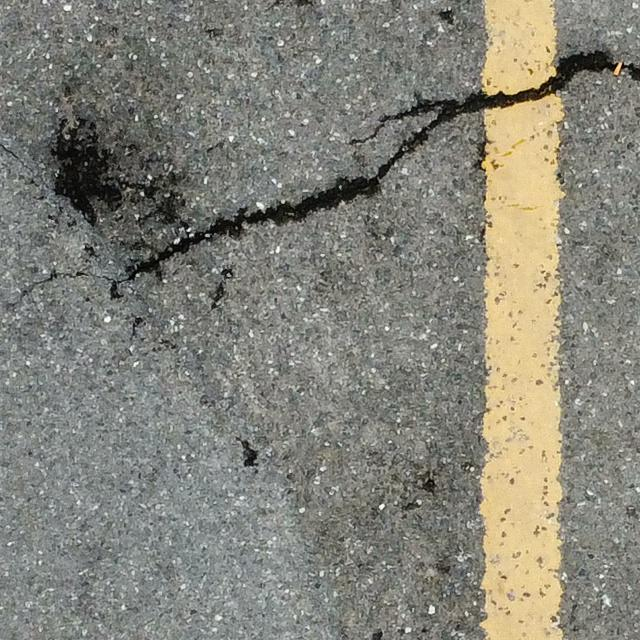TransverseCrack: (16, 47, 640, 309)
